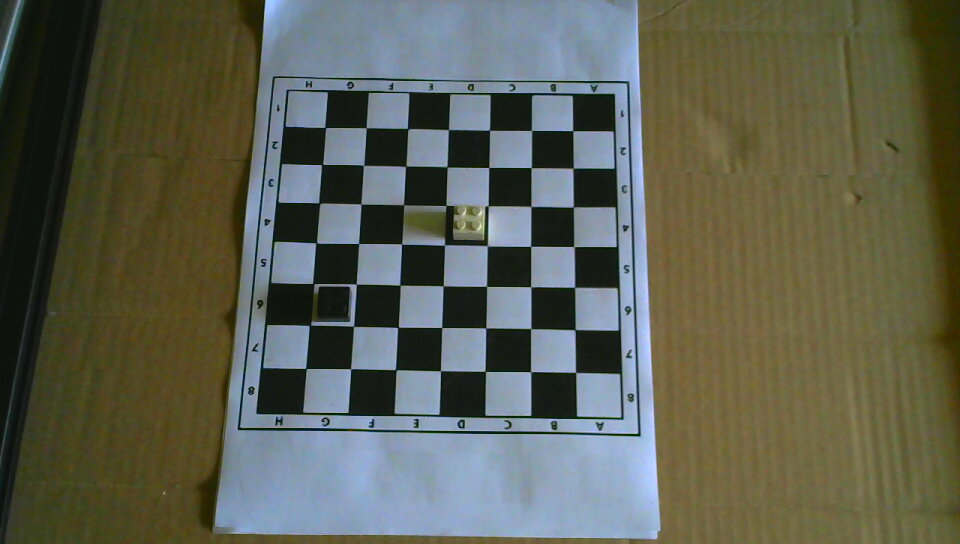bp: (316, 285, 351, 322)
wp: (451, 203, 486, 242)
